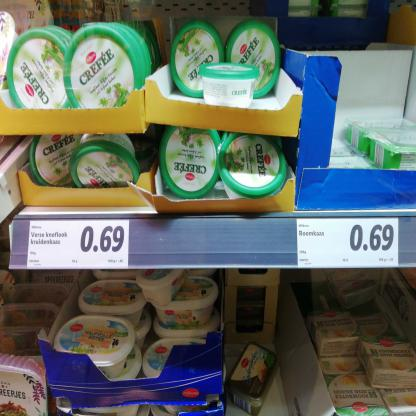prtg: (297, 218, 400, 268), (28, 221, 131, 270)
